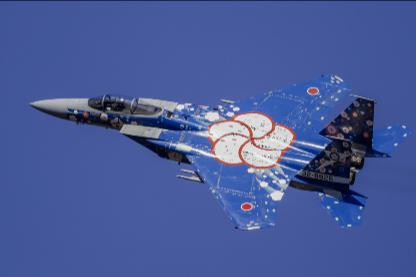F117: (27, 73, 411, 228)
